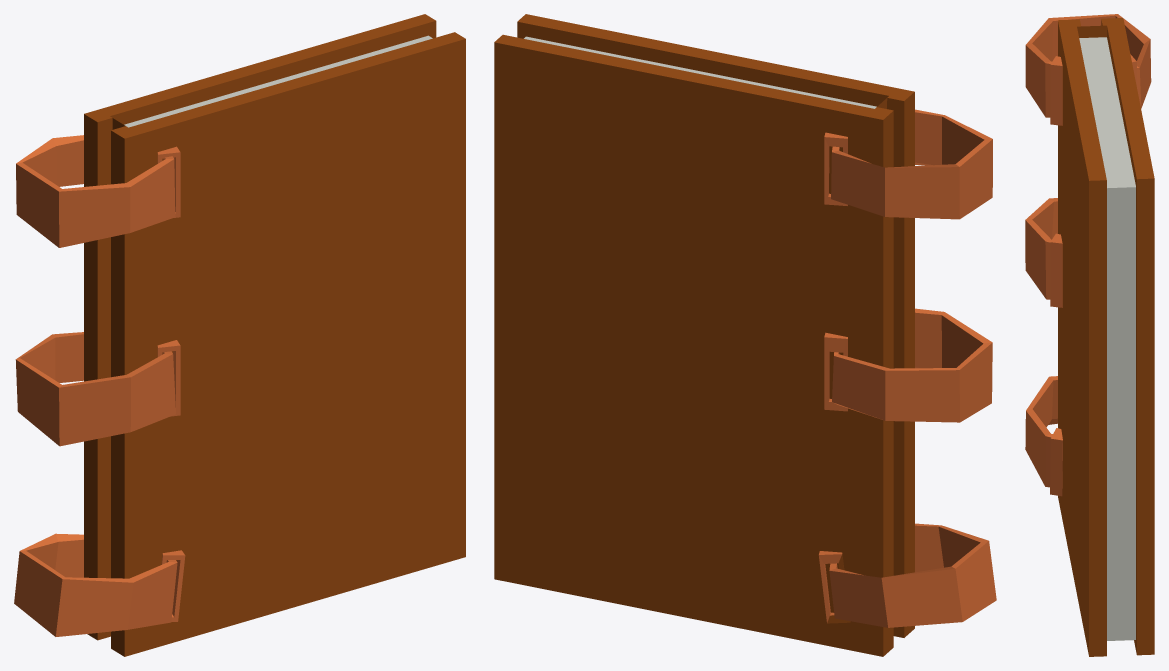
The model's file is Book.fbx.
3 renders of one model, left to right at view 1: azimuth 30°, elevation 25°; view 2: azimuth 150°, elevation 25°; view 3: azimuth 270°, elevation 25°, orthographic. The views are drawn at different scales.
Visible parts, largest first — view 1: Cube.860; view 2: Cube.860; view 3: Cube.860.
Part boxes in pixels (<box>): Cube.860: <box>14,14,465,656</box>; Cube.860: <box>494,14,996,656</box>; Cube.860: <box>1025,14,1154,656</box>.
Size of the model in its own units: 176 by 200 by 49.22.
